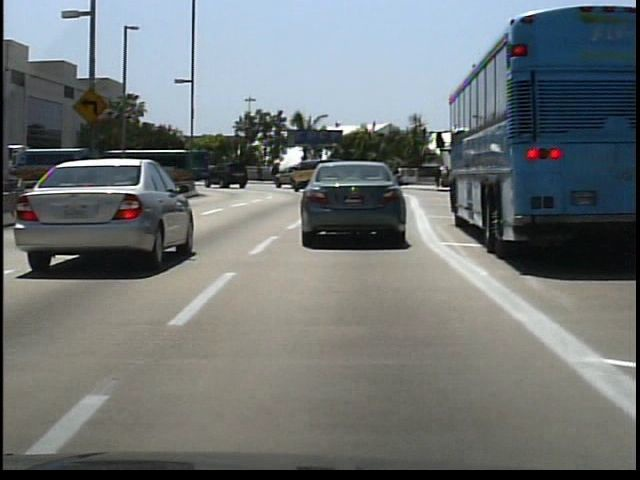person: (430, 164, 444, 191), (255, 160, 265, 181)
